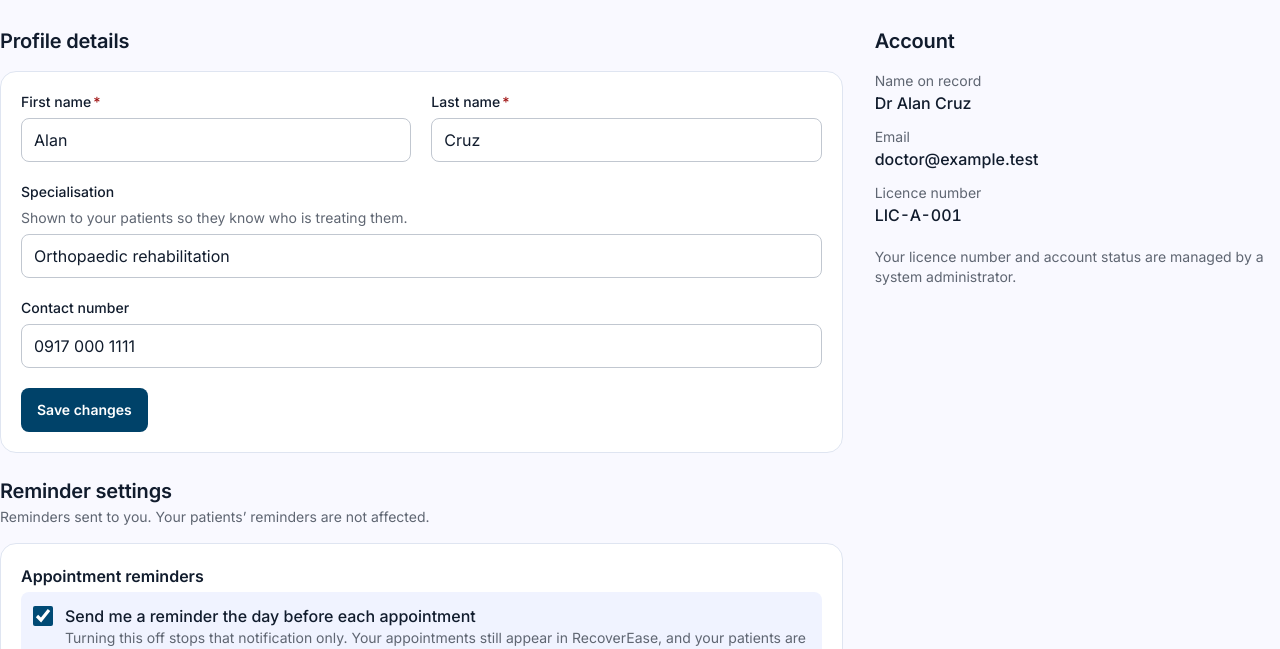
Test: the doctor’s appointment reminder setting › saves it turned off, for this doctor, alone, and says so
Step 1. Click the checkbox labelled "Send me a reminder the day before each appointment" → [43, 616], box [33,606,53,626]
(page scrolled)
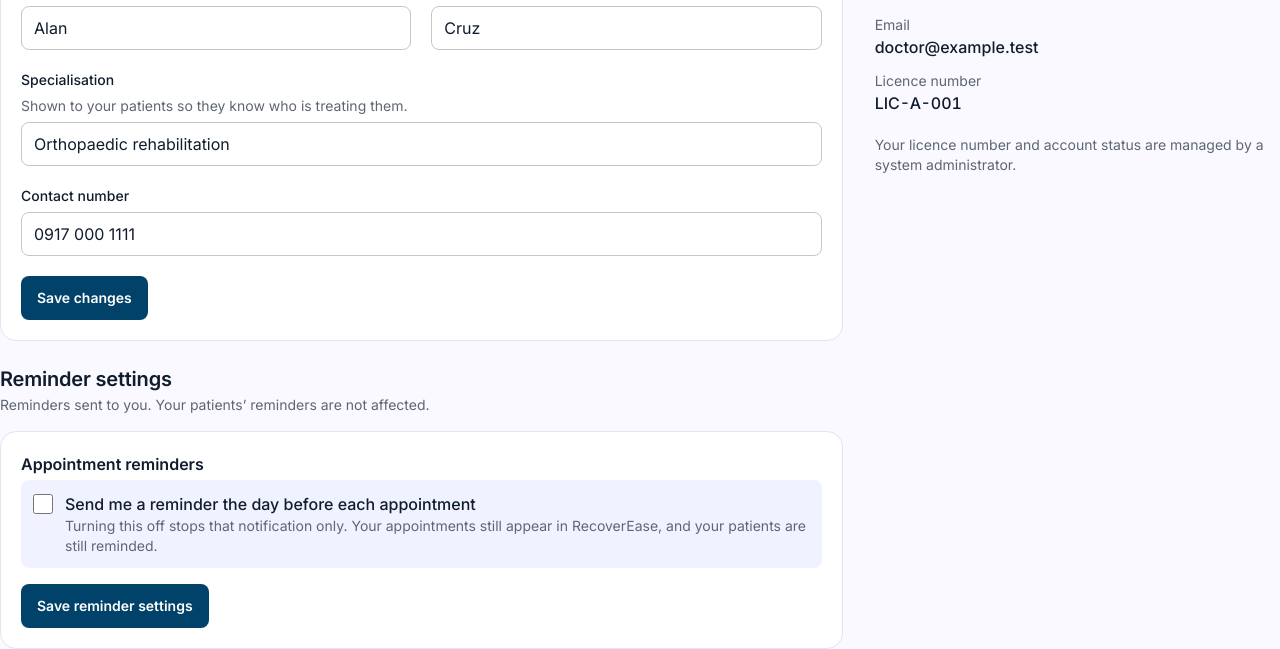
Step 2. Click the button "Save reminder settings" → [115, 606], box [21,584,209,628]
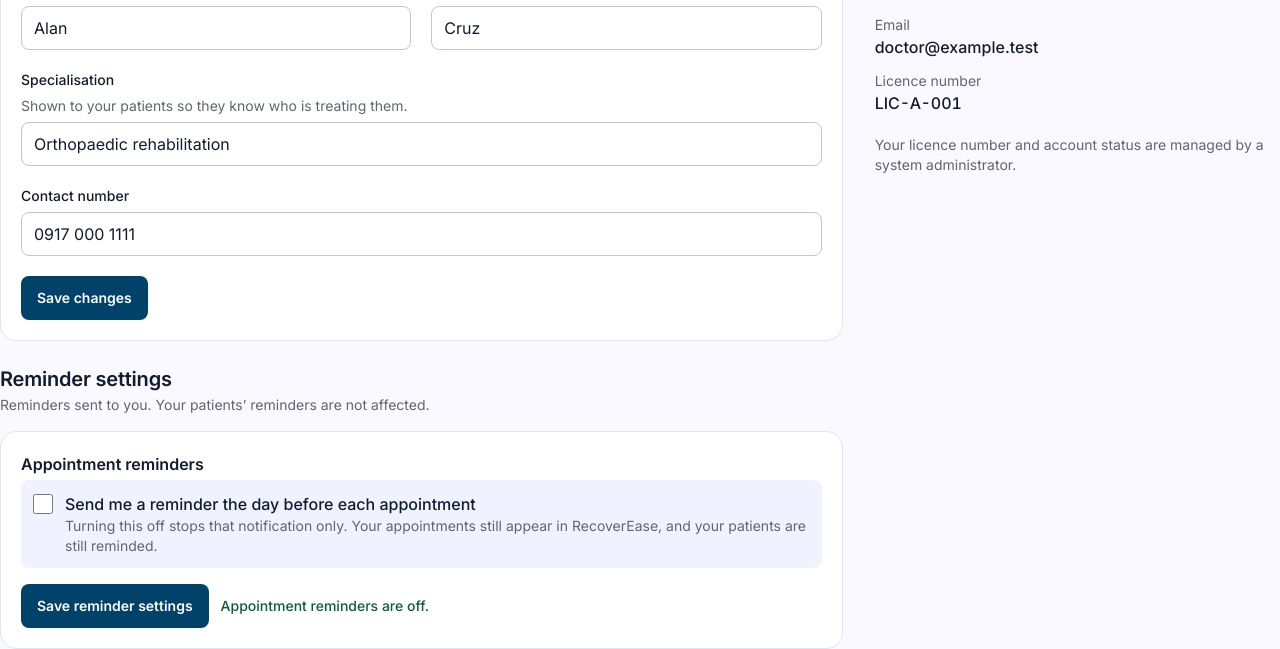
Result: the message reads "Appointment reminders are off." at [221,597,429,614]
